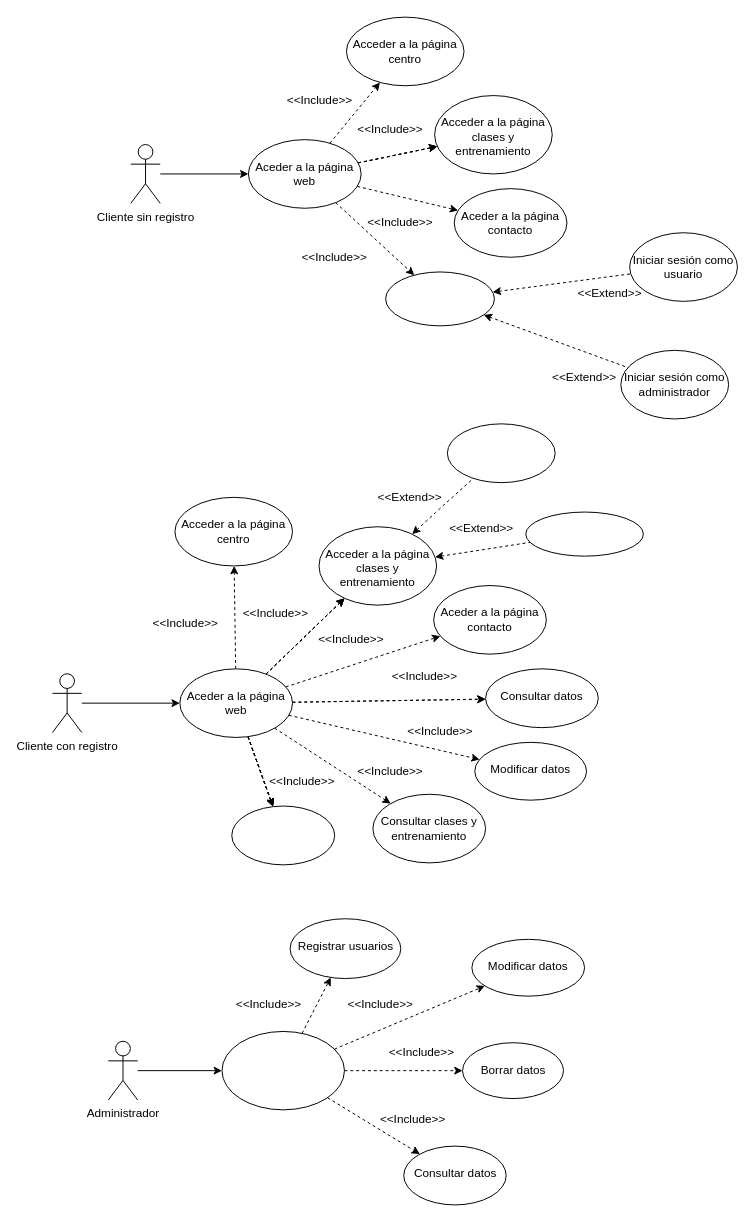
Image size: 755x1222. Some labels were removed from this diagram. The centre of each missing label's shape, as x and y in pixels:
Aceder a la página web del administrador: point (282, 1070)
Borrar cuenta: point (283, 835)
Iniciar sesión: point (439, 298)
Inscribirse a clase: point (500, 453)
Inscribirse a entrenamiento: point (584, 533)
